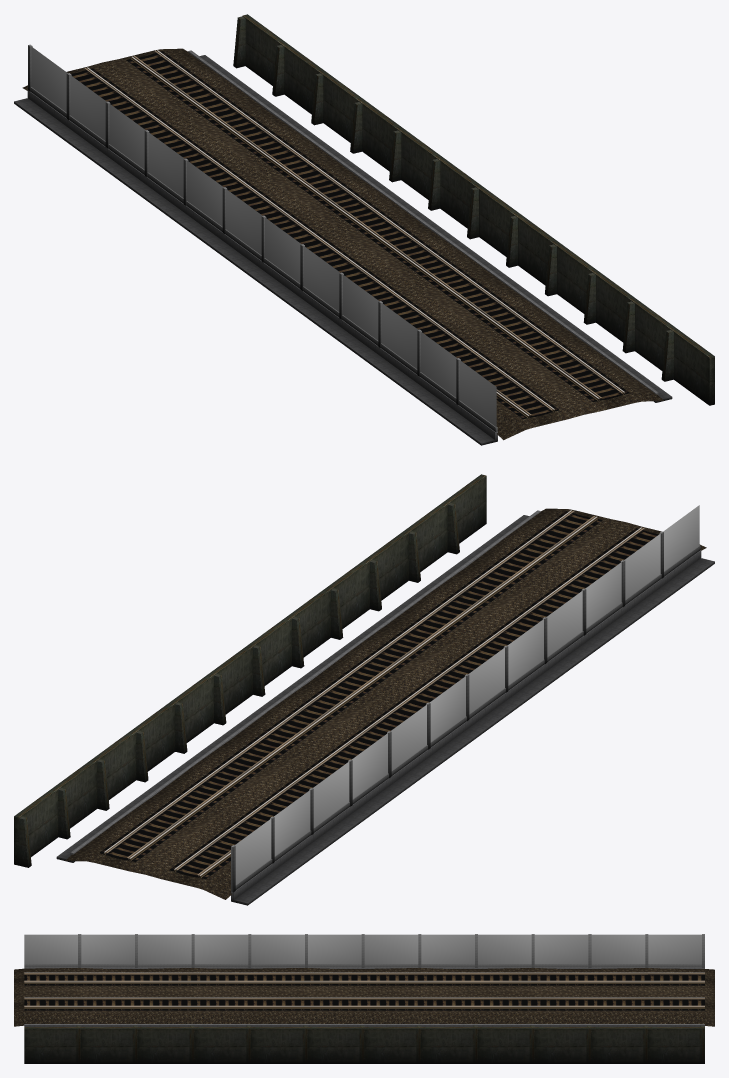
Rendered from KIN_2RAIL_150_KAWACHI.glb.
3 renders of one model, top to bottom at view 1: azimuth 30°, elevation 25°; view 2: azimuth 150°, elevation 25°; view 3: azimuth 270°, elevation 25°, orthographic. The views are drawn at different scales.
Parts seen in each view (by area): view 1: Jari_All3, R000_RG_L3, R000_RG_R3, bone_3, bone_2, bone_1, bone_5, bone_4, bone_0, bone__11, bone__10, bone__9 (+3 smaller); view 2: Jari_All3, R000_RG_L3, R000_RG_R3, bone_0, bone__9, bone__11, bone__10, bone_2, bone_1, bone_3, bone_4, bone_5 (+3 smaller); view 3: Jari_All3, R000_RG_L3, R000_RG_R3.
Boxes of the visible parts, box(x1,y1,x2,y2) form: Jari_All3: box(14, 14, 714, 445); R000_RG_L3: box(84, 50, 622, 410); R000_RG_R3: box(133, 55, 601, 416); bone_3: box(144, 102, 362, 176); bone_2: box(105, 73, 323, 148); bone_1: box(66, 45, 284, 119); bone_5: box(222, 159, 440, 233); bone_4: box(183, 130, 401, 205); bone_0: box(28, 16, 245, 91); bone__11: box(456, 330, 673, 404); bone__10: box(417, 301, 634, 376); bone__9: box(378, 273, 595, 347); Jari_All3: box(14, 474, 714, 905); R000_RG_L3: box(106, 510, 644, 870); R000_RG_R3: box(127, 515, 595, 876); bone_0: box(19, 816, 235, 892); bone__9: box(370, 559, 586, 635); bone__11: box(447, 502, 663, 578); bone__10: box(409, 531, 625, 606); bone_2: box(97, 759, 313, 835); bone_1: box(58, 787, 274, 863); bone_3: box(136, 730, 352, 806); bone_4: box(175, 702, 391, 778); bone_5: box(214, 673, 430, 749); Jari_All3: box(14, 934, 714, 1063); R000_RG_L3: box(24, 980, 704, 1006); R000_RG_R3: box(24, 973, 704, 999).
Size of the model in its own units: 43.32 by 12.57 by 155.
Materials: 34 (33 with a texture image).
